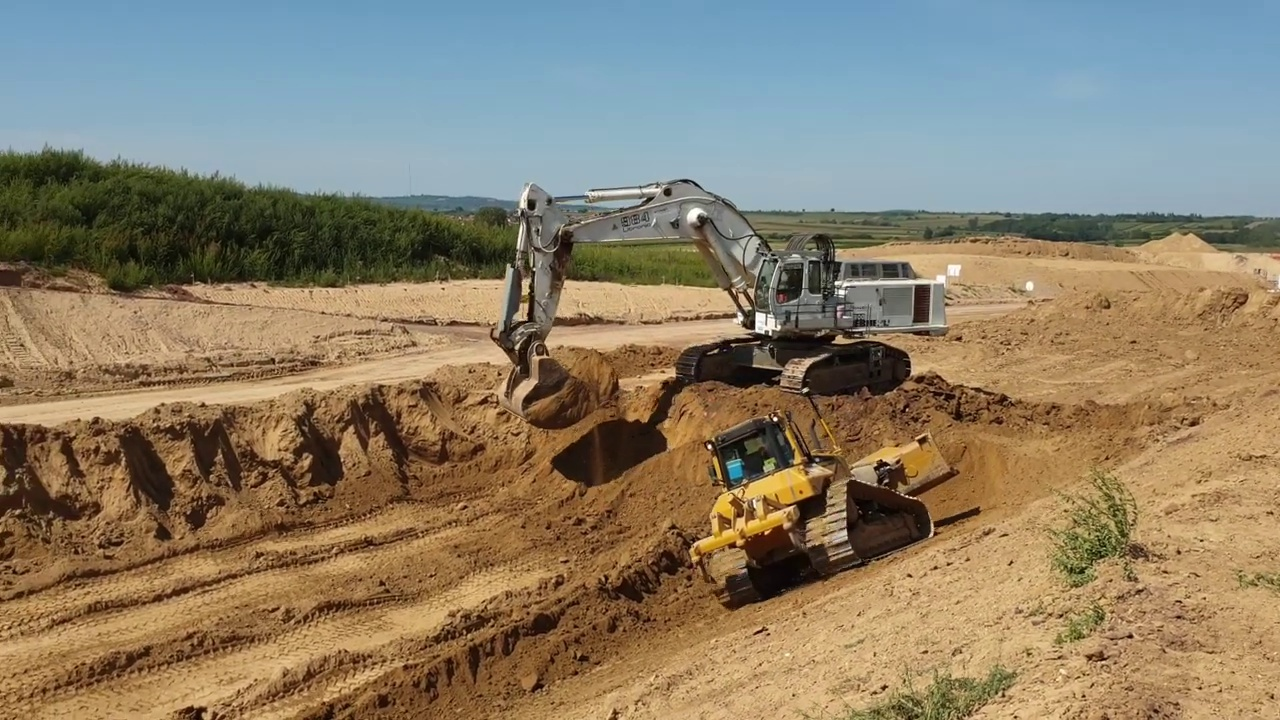bulldozer: (681, 386, 964, 616)
excavator: (484, 171, 954, 431)
